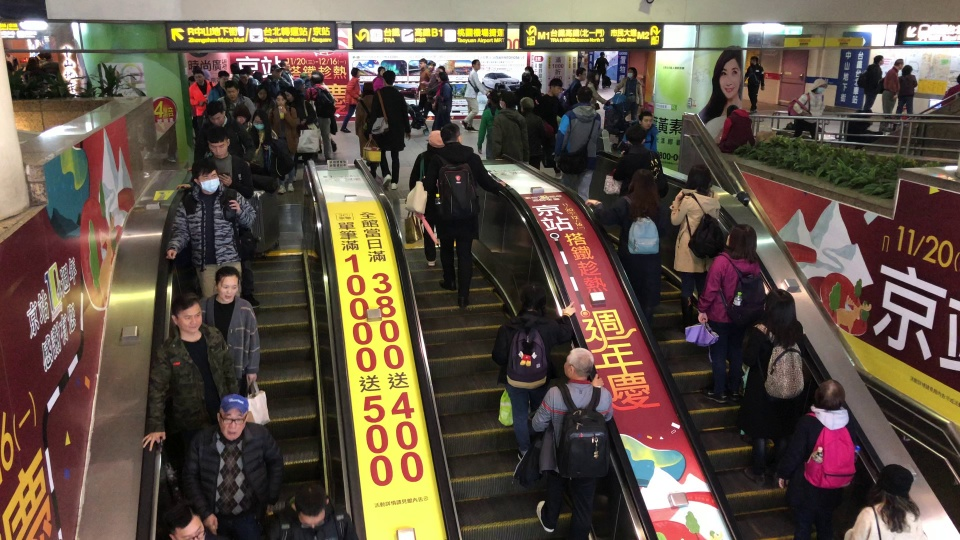person_head: (291, 483, 331, 529), (210, 393, 248, 441), (877, 465, 917, 502), (165, 507, 205, 540), (758, 289, 796, 320), (811, 379, 849, 410), (208, 265, 240, 301), (188, 158, 222, 191), (169, 301, 204, 333), (562, 347, 597, 379), (725, 224, 756, 251), (686, 166, 714, 192), (628, 170, 653, 199), (517, 287, 542, 311), (439, 123, 466, 143), (207, 132, 230, 155), (207, 101, 228, 124), (573, 86, 594, 106), (427, 129, 446, 148), (252, 108, 268, 129), (499, 92, 518, 109), (234, 103, 250, 123), (224, 83, 241, 100), (229, 63, 243, 83), (809, 78, 827, 93), (381, 70, 397, 85), (641, 111, 654, 129), (216, 70, 231, 85), (518, 97, 534, 111), (548, 78, 562, 94), (623, 65, 640, 78), (574, 66, 588, 80), (487, 94, 500, 108), (725, 103, 740, 115), (625, 134, 641, 145), (270, 64, 283, 77), (284, 89, 298, 101), (361, 81, 374, 93), (254, 85, 266, 97), (26, 57, 39, 68), (901, 65, 915, 75), (194, 71, 206, 82), (229, 63, 241, 74), (238, 69, 249, 81), (274, 95, 287, 105), (891, 59, 904, 69), (281, 59, 292, 70), (470, 59, 481, 70), (293, 78, 305, 88), (310, 73, 322, 83), (436, 72, 449, 81), (871, 54, 884, 63), (350, 67, 361, 77), (747, 56, 760, 64), (243, 65, 253, 75), (417, 57, 426, 68), (436, 65, 447, 74), (377, 65, 386, 75), (524, 66, 536, 73), (428, 61, 436, 70), (4, 48, 12, 56), (188, 76, 196, 84), (43, 52, 51, 59), (597, 51, 606, 57), (956, 74, 960, 81)
person_vbox: (528, 348, 616, 540), (137, 301, 238, 461), (491, 289, 578, 464), (181, 393, 284, 540), (175, 131, 260, 309), (777, 378, 866, 540), (742, 288, 808, 483), (583, 171, 663, 331), (433, 123, 501, 310), (164, 157, 254, 298), (697, 223, 759, 403), (193, 265, 267, 392), (669, 165, 721, 332), (836, 464, 937, 539), (556, 85, 605, 202), (281, 482, 360, 539), (414, 131, 446, 266), (374, 70, 407, 189), (269, 95, 303, 194), (203, 101, 251, 167), (284, 89, 316, 179), (538, 78, 564, 178), (492, 92, 528, 164), (307, 74, 336, 162), (459, 58, 493, 133), (612, 134, 650, 197), (792, 77, 828, 142), (518, 98, 545, 171), (717, 104, 755, 154), (425, 72, 452, 142), (354, 81, 378, 158), (339, 67, 366, 135), (476, 94, 503, 159), (613, 66, 644, 121), (217, 83, 258, 124), (623, 111, 659, 157), (842, 107, 883, 147), (187, 71, 212, 136), (252, 108, 276, 175), (744, 55, 770, 114), (878, 59, 896, 134), (233, 103, 259, 154), (894, 64, 919, 117), (862, 53, 882, 111), (563, 66, 587, 106), (416, 57, 432, 115), (519, 66, 544, 98), (253, 84, 274, 122), (590, 51, 609, 90), (208, 71, 234, 99), (264, 63, 286, 95), (42, 51, 64, 82), (940, 74, 960, 107), (238, 69, 256, 99), (279, 58, 296, 89), (24, 57, 44, 79), (371, 64, 388, 89), (3, 48, 19, 71), (291, 78, 307, 101), (427, 60, 436, 78), (243, 65, 254, 78)
